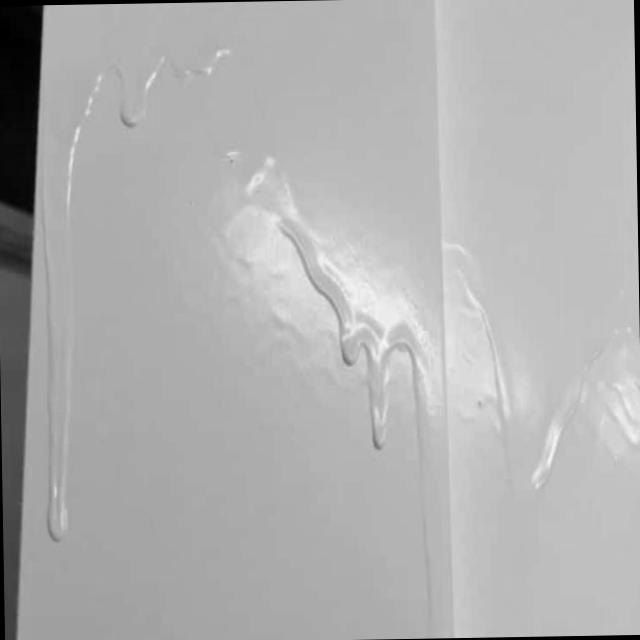paint drips: (32, 6, 250, 586), (252, 141, 490, 518), (503, 303, 640, 573)
